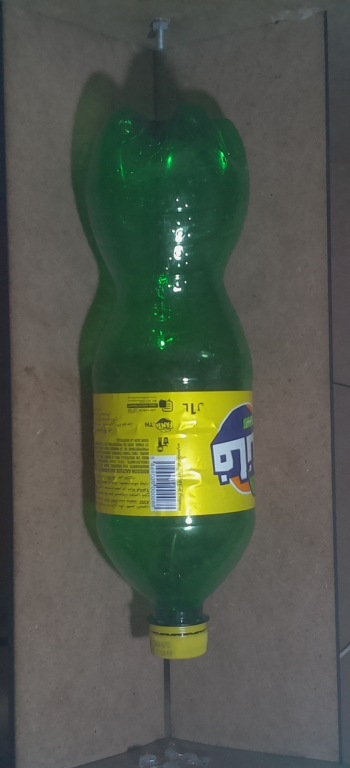Bouteille_1L: (73, 101, 267, 664)
